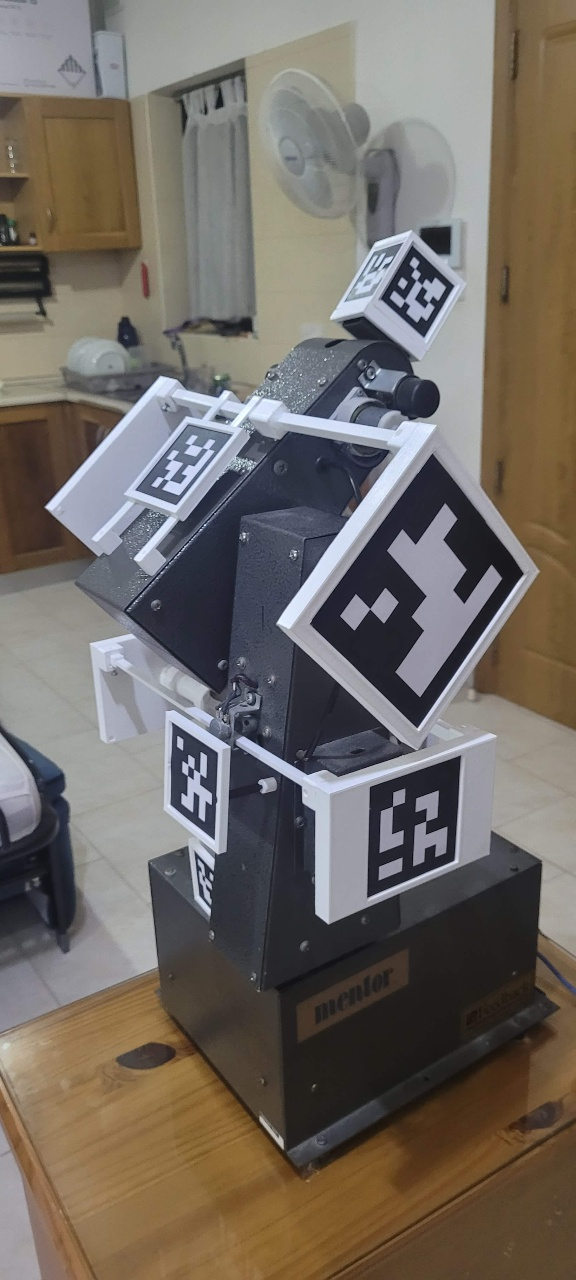Robot: (40, 227, 544, 994)
